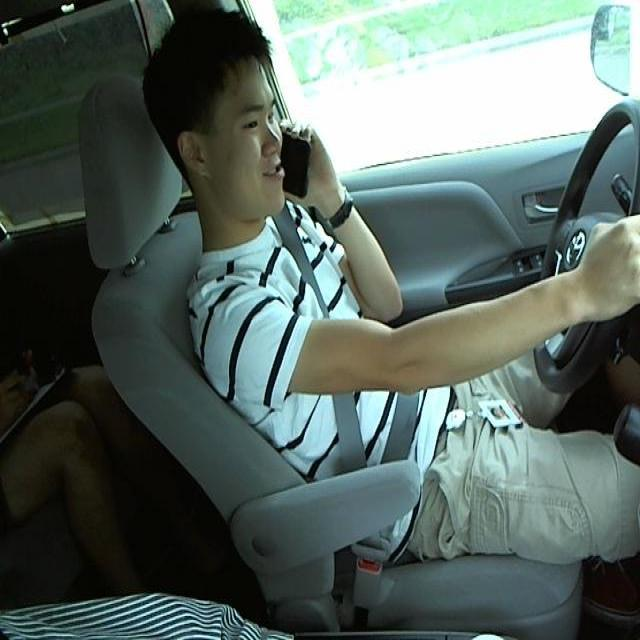using_phone: (111, 12, 387, 272)
